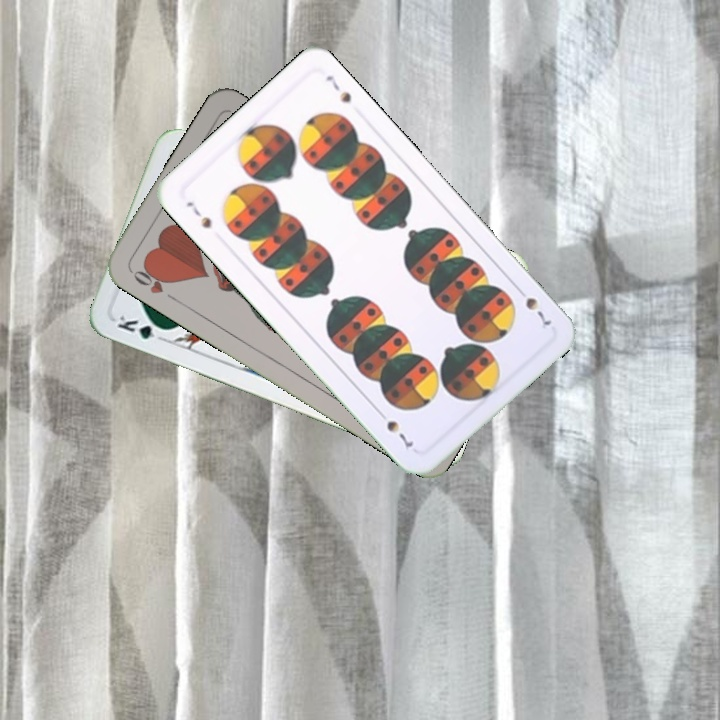GK: (113, 310, 171, 344)
HO: (127, 261, 180, 305)
S7: (512, 282, 554, 329), (181, 197, 214, 231)
